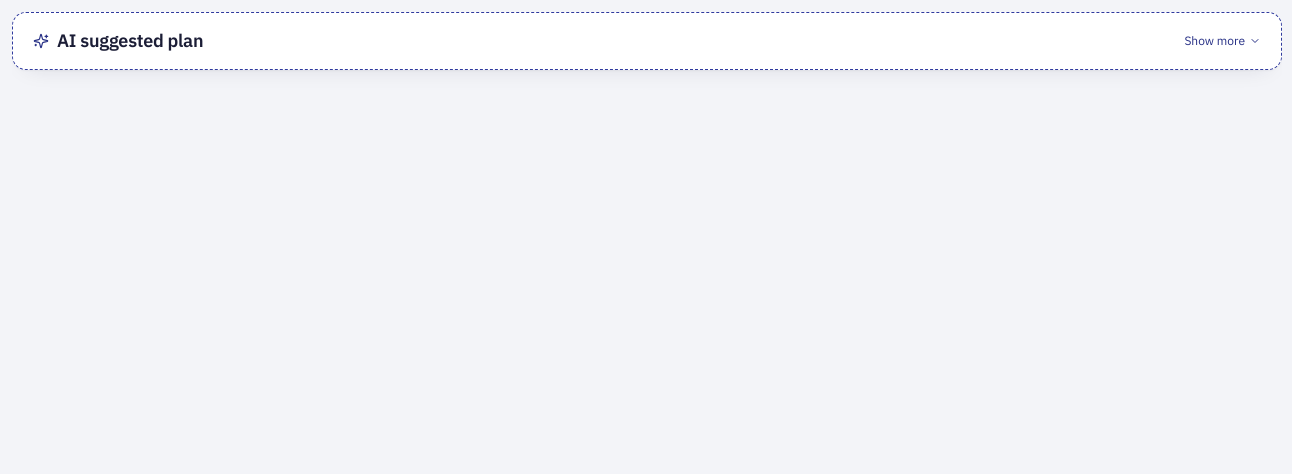
only the clicked item waits › starring a brand in the AI plan keeps the rest usable
What coordinates should you click on to do the following:
click the text "Show more"
I would click on:
 (1223, 41)
Its box is [1184, 33, 1261, 49].
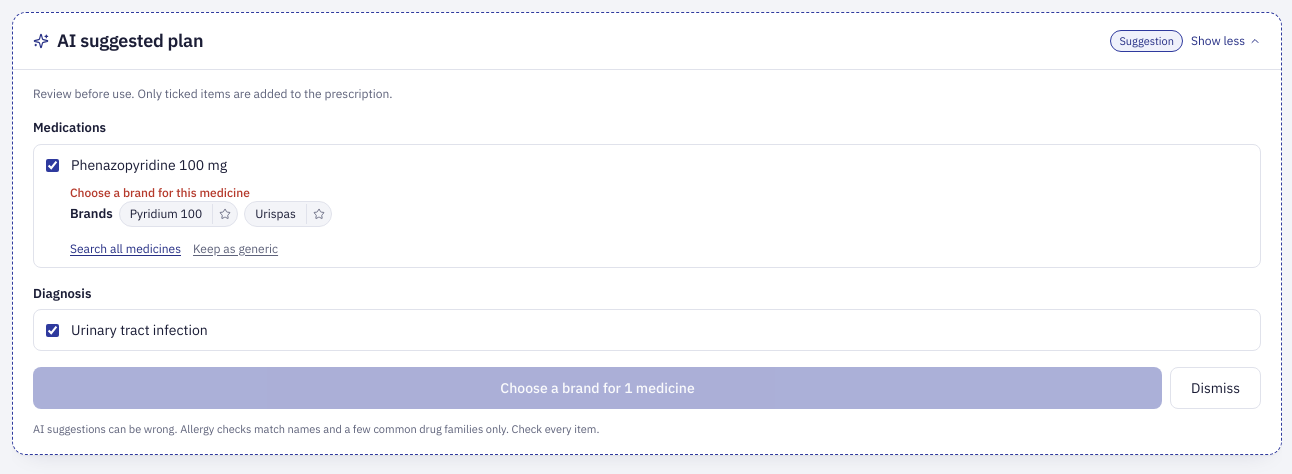
expect the button named "Favourite Pyridium 100" is shown: met
What coordinates should you click on to do the following:
click the button named "Favourite Pyridium 100"
I would click on:
 (225, 214)
Its box is [212, 204, 237, 224].
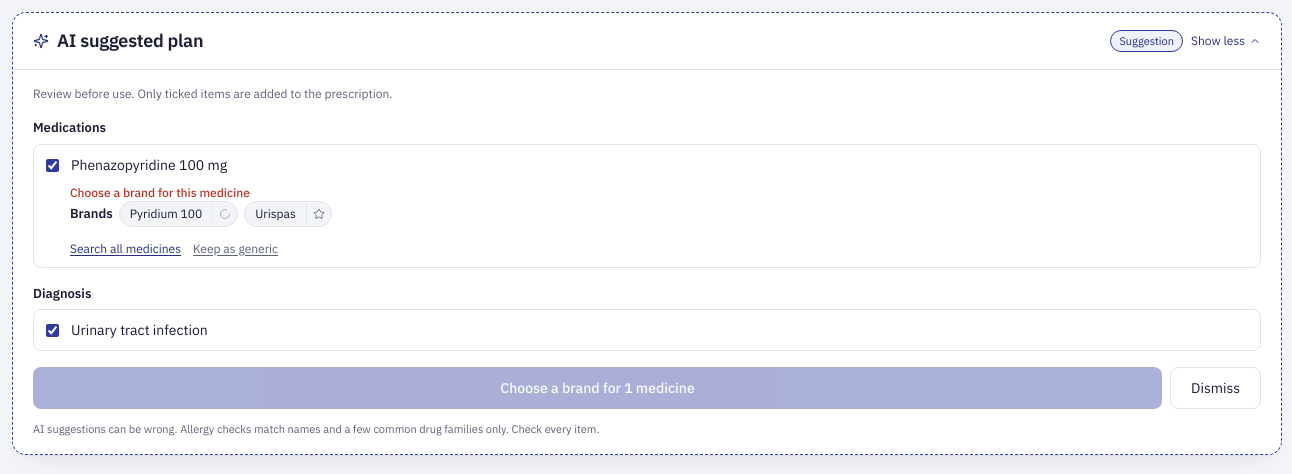
expect the button named "Favourite Urispas" is enabled: met, box [306, 204, 331, 224]
expect the button "Pyridium 100" is enabled: met, box [120, 202, 212, 226]
expect the button named "Favourite Pyridium 100" is disabled: met, box [212, 204, 237, 224]
